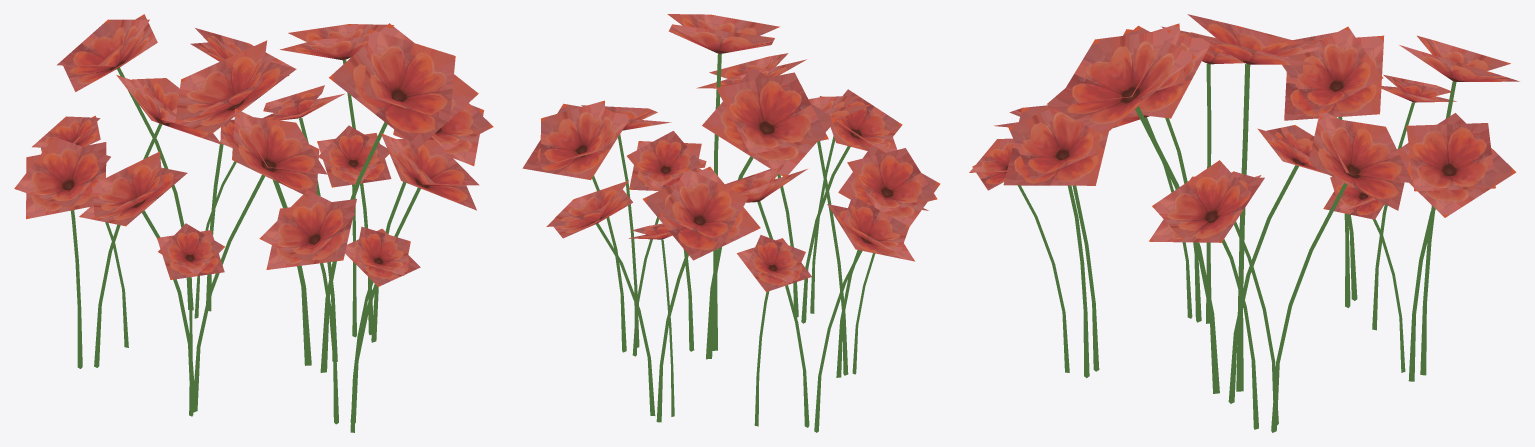
The model's file is SM_Flower_01_03.fbx.
The picture shows the model from 3 angles, left to right: view 1: azimuth 30°, elevation 25°; view 2: azimuth 150°, elevation 25°; view 3: azimuth 270°, elevation 25°; orthographic projection. The views are drawn at different scales.
Parts seen in each view (by area): view 1: SM_Flower_01_03_LOD0; view 2: SM_Flower_01_03_LOD0; view 3: SM_Flower_01_03_LOD0.
Part boxes in pixels (left/top/right/bottom): SM_Flower_01_03_LOD0: left=14, top=14, right=493, bottom=432; SM_Flower_01_03_LOD0: left=522, top=14, right=940, bottom=432; SM_Flower_01_03_LOD0: left=969, top=14, right=1519, bottom=432.
Size of what is drawn, in the model's own units: 109 by 86.14 by 114.
